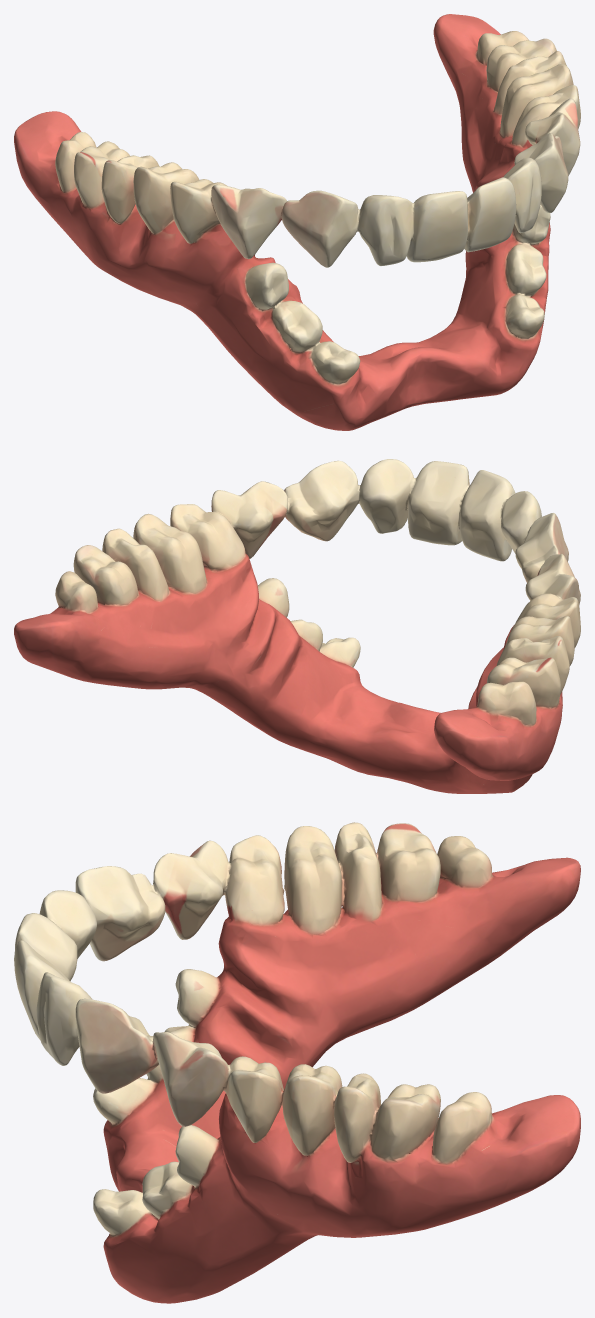
The model's file is Part_UpperTeethArch.glb.
The picture shows the model from 3 angles, top to bottom: view 1: azimuth 30°, elevation 25°; view 2: azimuth 150°, elevation 25°; view 3: azimuth 270°, elevation 25°; orthographic projection. The views are drawn at different scales.
Bounding box in the file's own units: 1.9 × 0.9897 × 1.58.
Materials: 1 (1 with a texture image).
